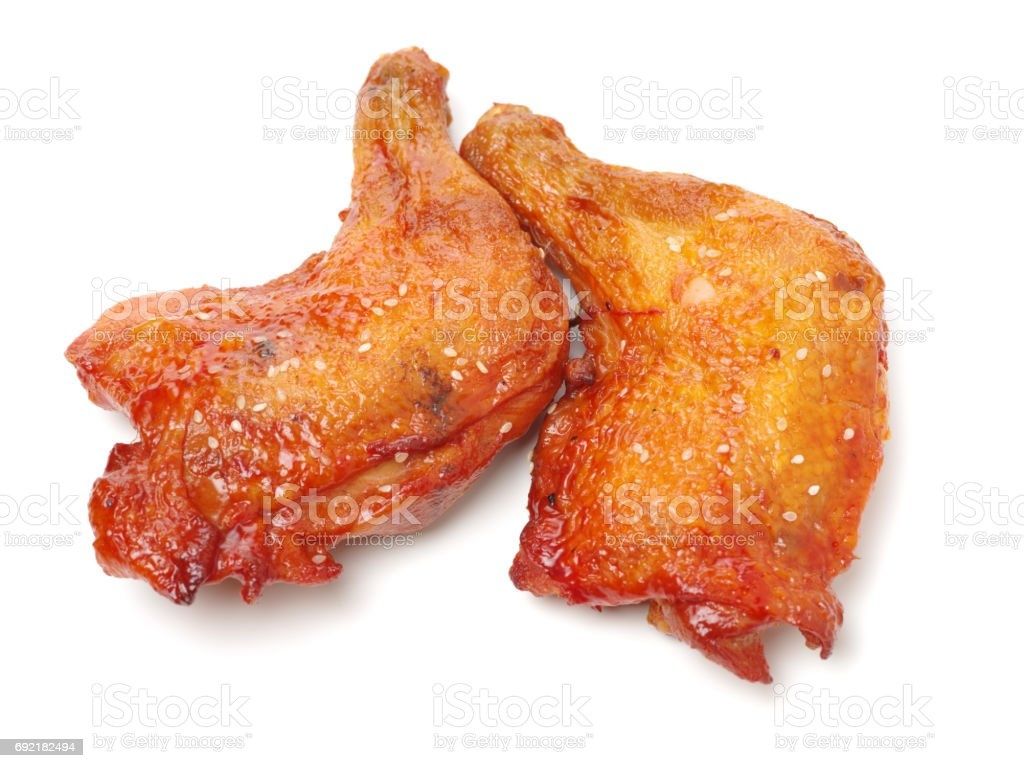ayam_goreng: (71, 31, 576, 611), (445, 86, 914, 682)
